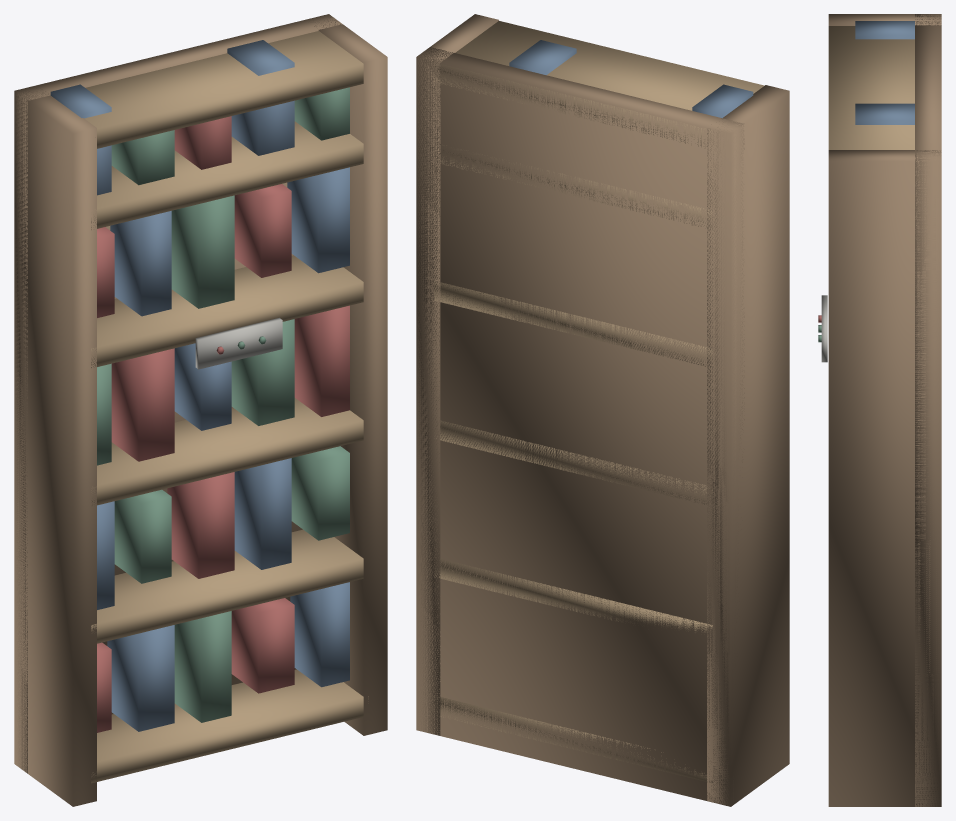
The model's file is library_stack_bay__tall.glb.
The picture shows the model from 3 angles, left to right: view 1: azimuth 30°, elevation 25°; view 2: azimuth 150°, elevation 25°; view 3: azimuth 270°, elevation 25°; orthographic projection. The views are drawn at different scales.
Visible parts, largest first — view 1: world; view 2: world; view 3: world.
Part boxes in pixels (<box>): world: <box>14,14,387,806</box>; world: <box>416,14,789,806</box>; world: <box>818,14,941,806</box>.
Bounding box in the file's own units: 1.05 × 2.16 × 0.371.
